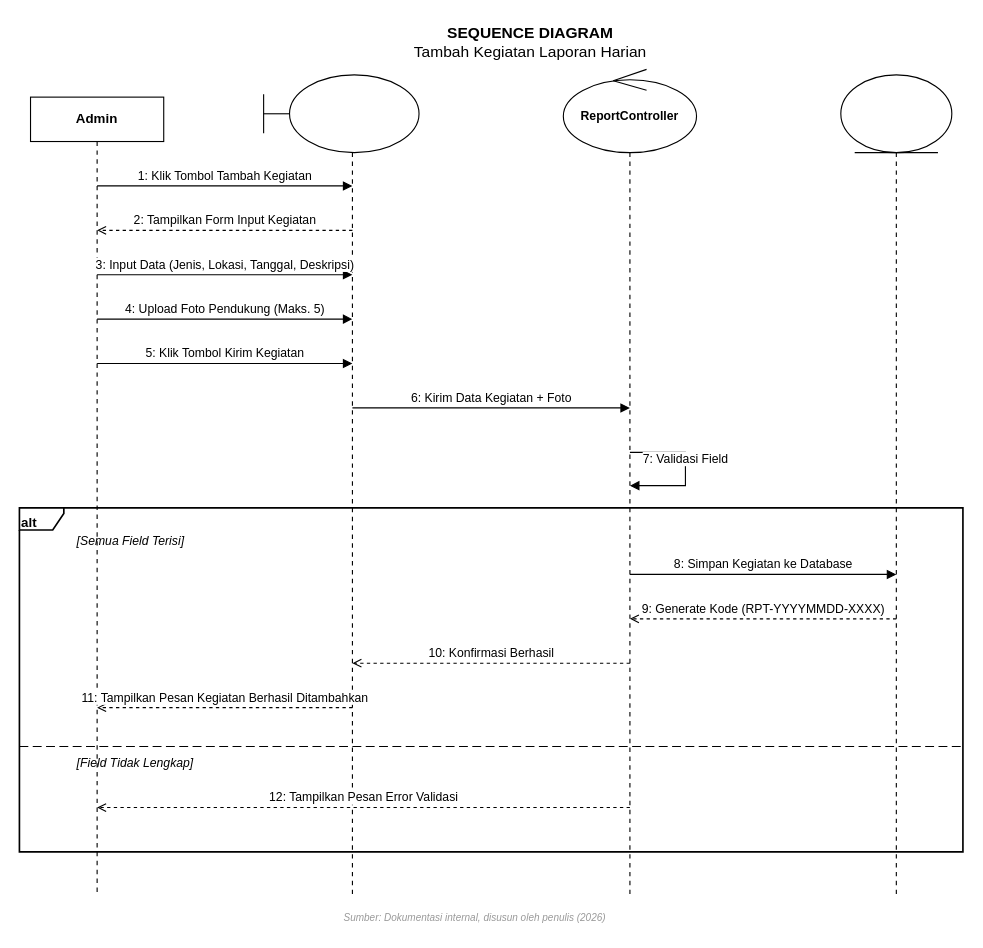
Some shapes in this 983 by 948 pixel diagram are drawn without their labels. Each missing label, with the centre of its shape:
"Database" goes at [896,113].
"Form Kegiatan" goes at [341,113].
